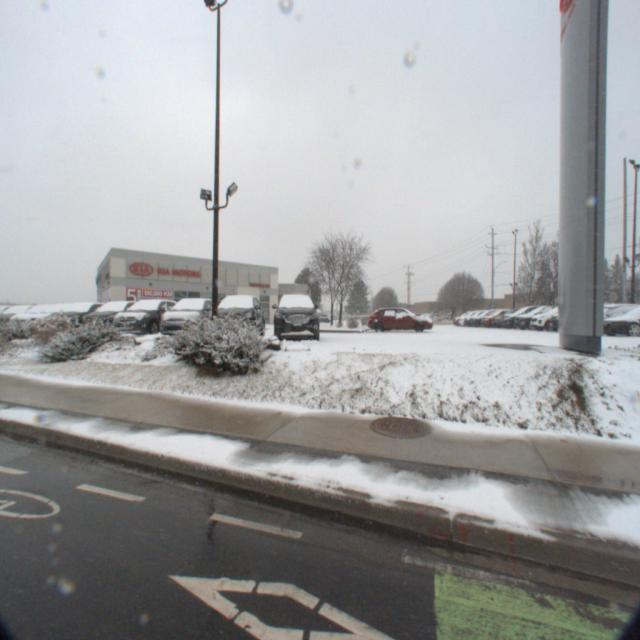Car: (199, 286, 267, 346), (104, 296, 185, 341), (152, 294, 226, 342), (70, 297, 154, 339), (34, 299, 120, 339), (15, 301, 104, 337), (272, 287, 322, 346), (524, 302, 596, 332), (364, 306, 432, 334), (507, 303, 575, 330), (494, 303, 557, 328), (466, 306, 514, 326), (416, 311, 441, 321)
